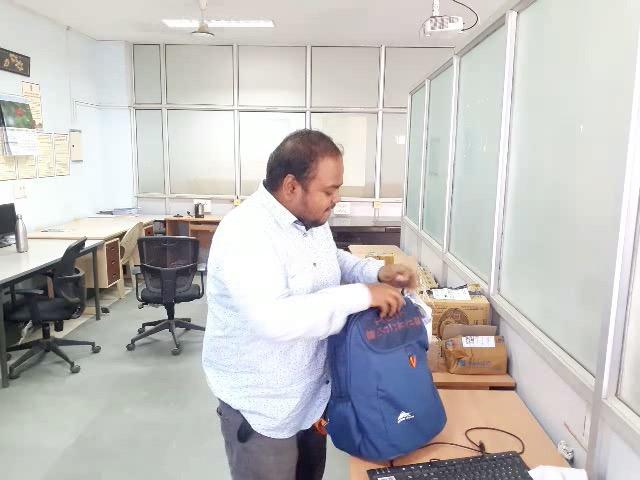shoplifting: (151, 237, 457, 448)
